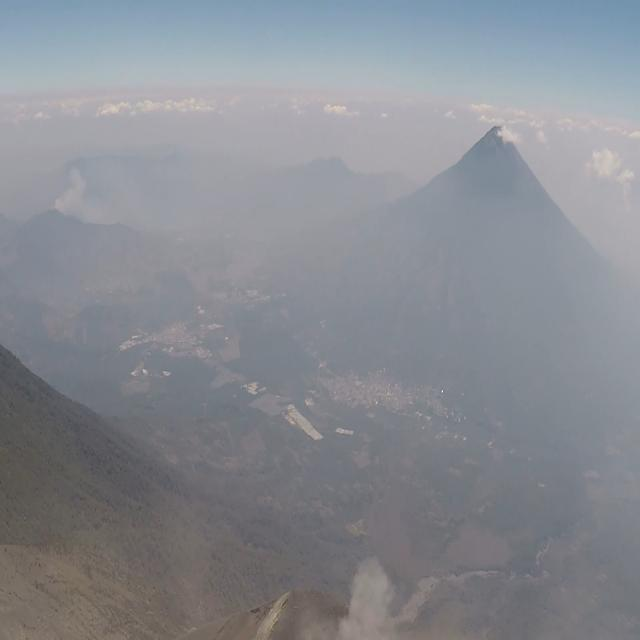Summit: (170, 578, 480, 640)
